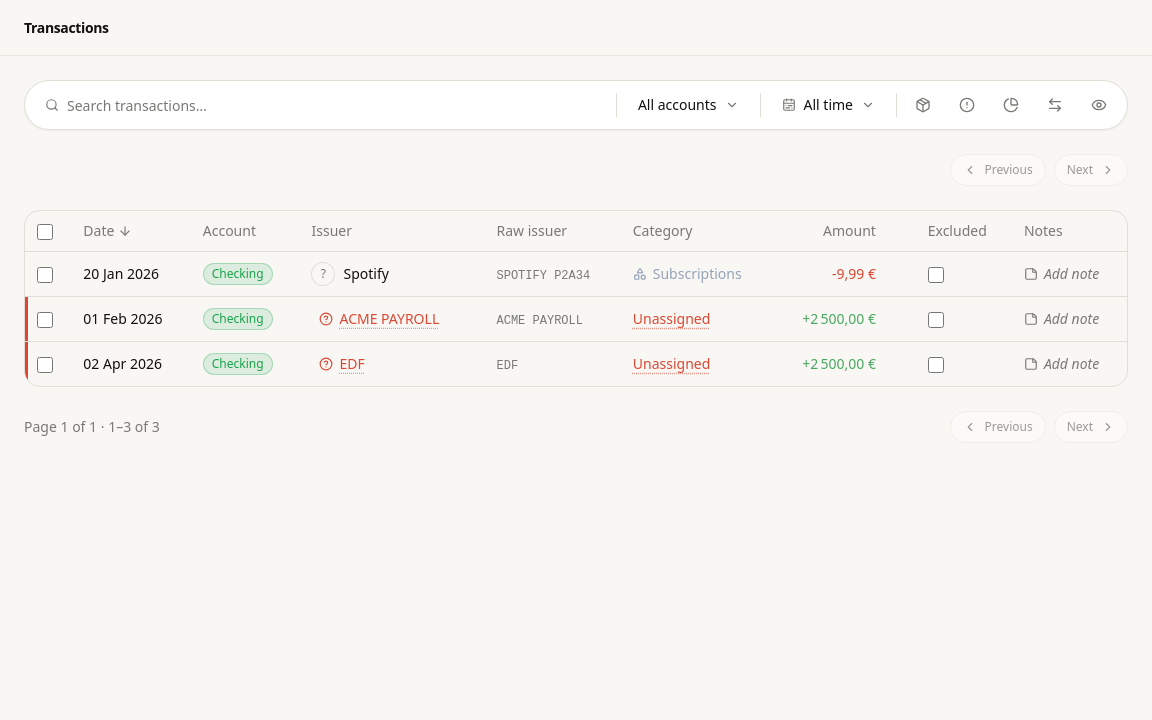
TransactionsView › offers months derived from the rows' dates, not their import stamp
This screenshot has width=1152, height=720.
Expected: the button "ACME PAYROLL" is shown, [312,306,447,330]
Click the button with aria-label "Filter by period".
click(828, 105)  # box [768,89,888,121]
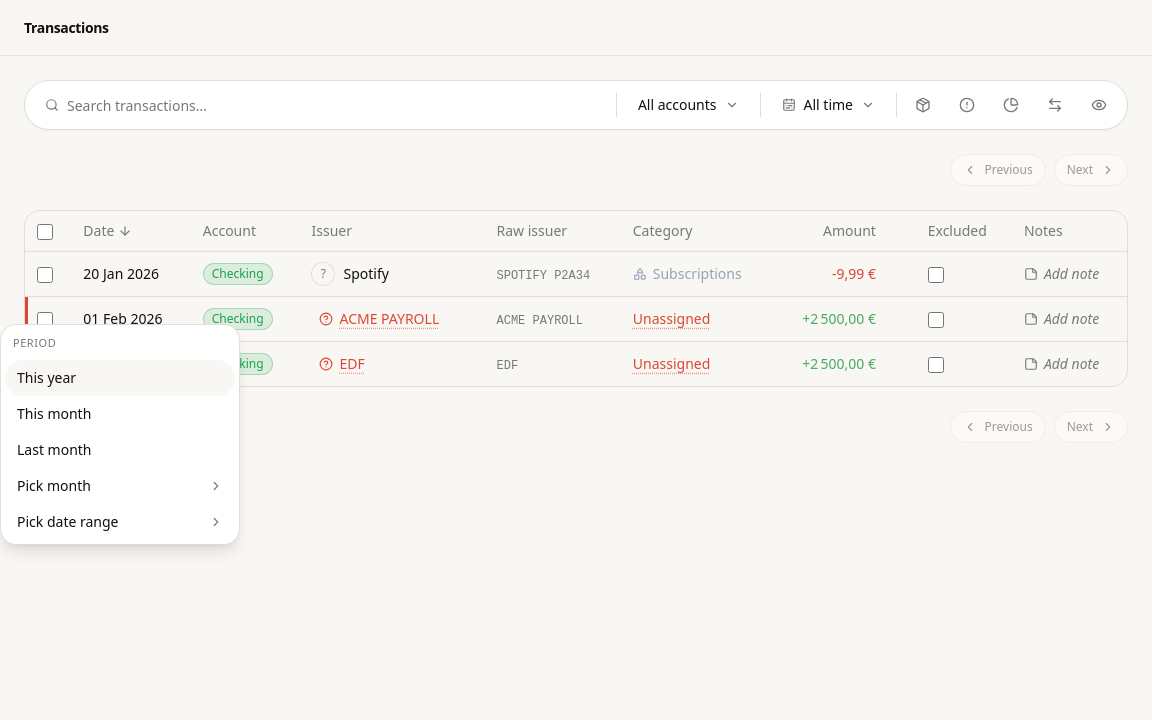
Click the option "Pick month".
click(54, 485)  # box [17,476,223,494]
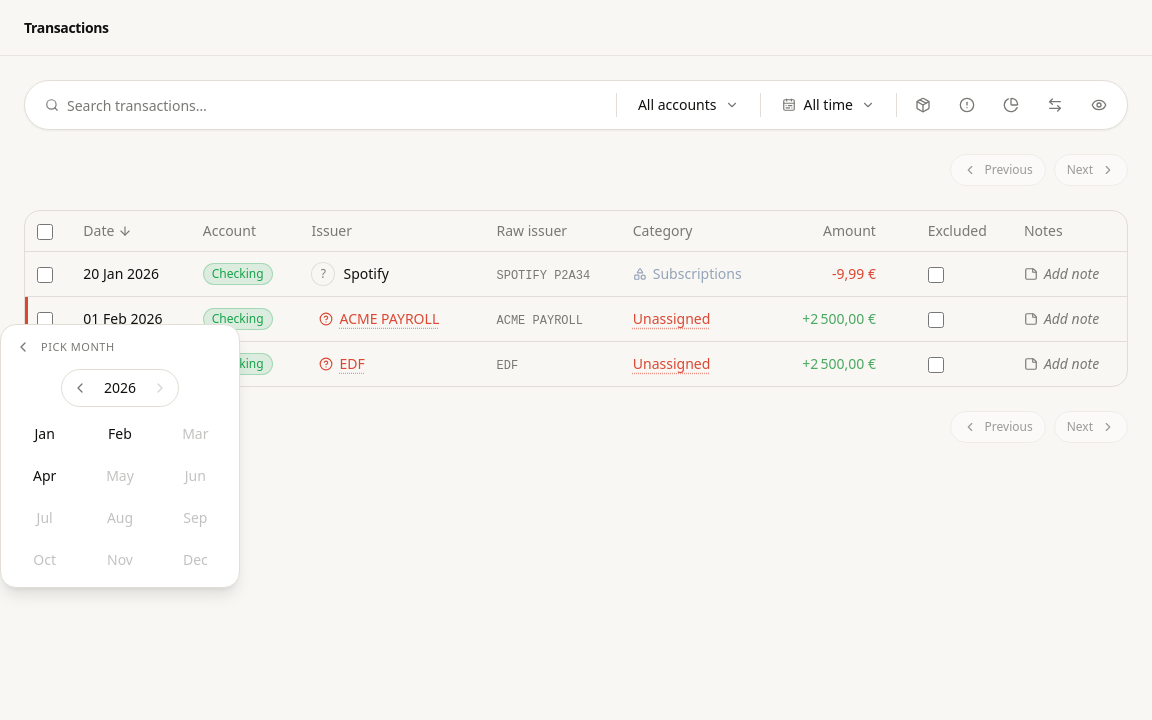
Expected: the button "Apr" is enabled, [9,457,80,495]
Expected: the button "Mar" is disabled, [160,415,231,453]
